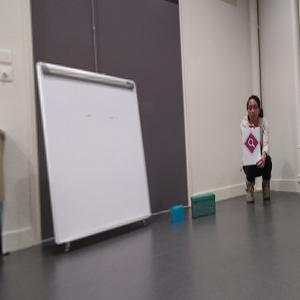search: (244, 132, 259, 153)
